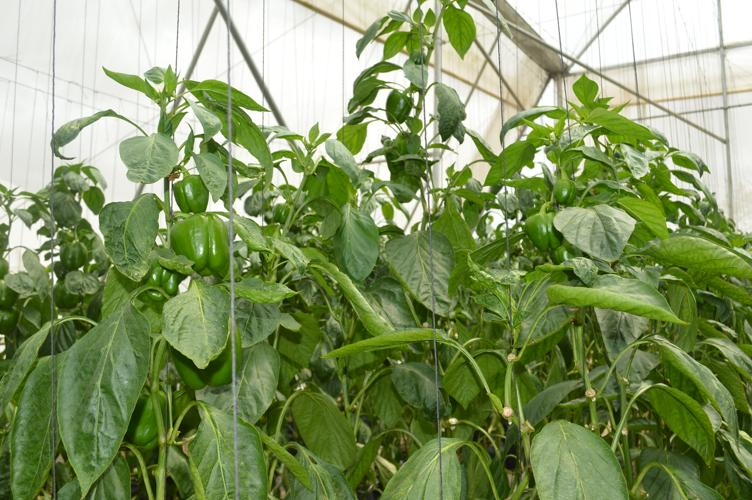BellPepper: (171, 328, 244, 383), (178, 215, 231, 279), (123, 392, 165, 461), (166, 175, 209, 209), (145, 263, 177, 299), (522, 215, 554, 248), (382, 92, 407, 124), (550, 182, 575, 197)
